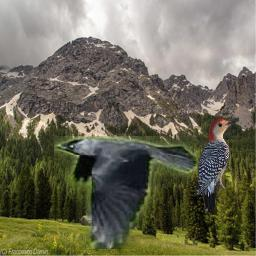Crow: (55, 137, 198, 250)
Woodpecker: (195, 117, 239, 211)
